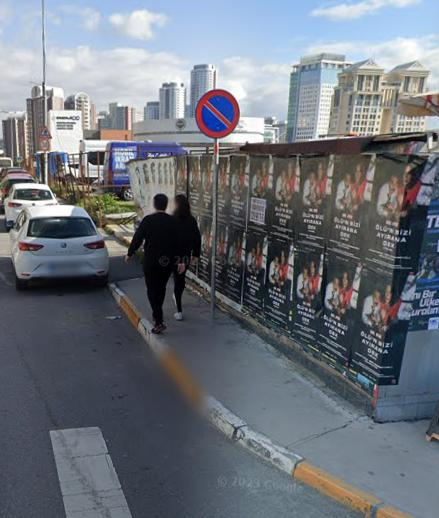stop: (195, 90, 242, 139)
